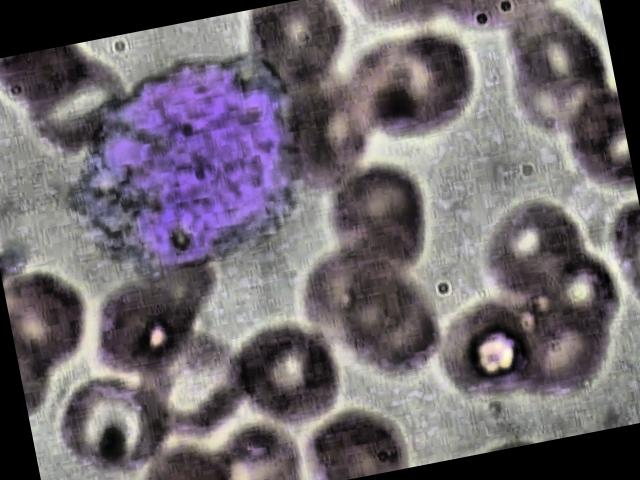RBC: (358, 23, 492, 152), (294, 230, 428, 359), (471, 187, 604, 316), (314, 161, 447, 290), (223, 314, 356, 442), (46, 365, 179, 480), (426, 289, 546, 414), (0, 256, 116, 382), (82, 272, 202, 384), (240, 0, 360, 104)
WBC: (44, 42, 326, 304)
